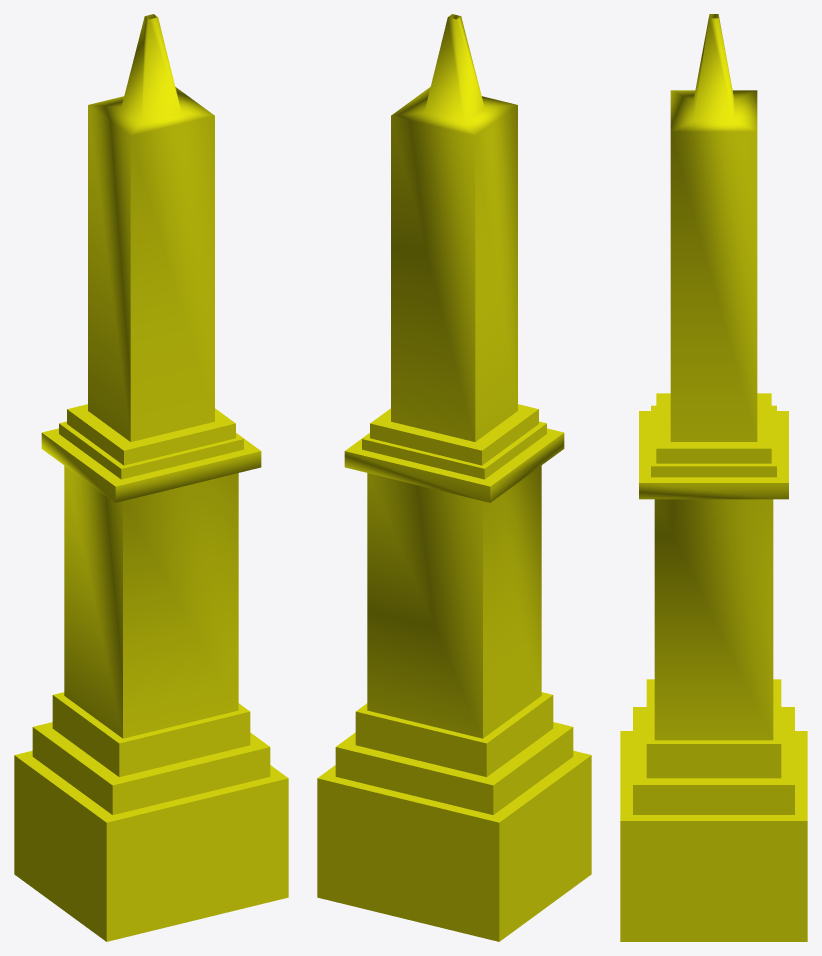
The model's file is mdl_ciudadela_casa_pilar.fbx.
The picture shows the model from 3 angles, left to right: view 1: azimuth 30°, elevation 25°; view 2: azimuth 150°, elevation 25°; view 3: azimuth 270°, elevation 25°; orthographic projection.
Visible parts, largest first — view 1: mdl_ciudadela_casa_pilar; view 2: mdl_ciudadela_casa_pilar; view 3: mdl_ciudadela_casa_pilar.
Part boxes in pixels (left/top/right/bottom): mdl_ciudadela_casa_pilar: left=14, top=14, right=288, bottom=941; mdl_ciudadela_casa_pilar: left=317, top=14, right=591, bottom=941; mdl_ciudadela_casa_pilar: left=620, top=14, right=807, bottom=941.
Bounding box in the file's own units: 1.67 × 7.62 × 1.47.
